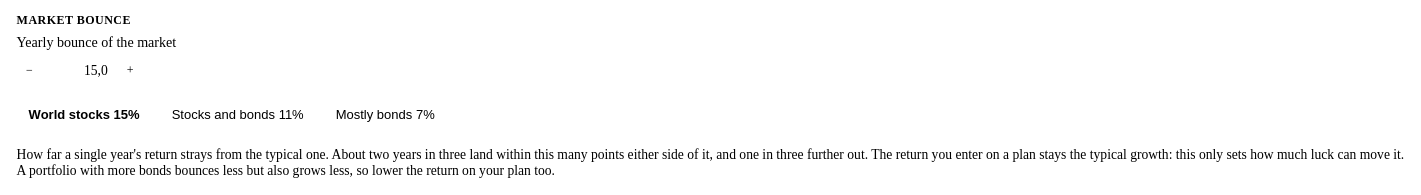
MarketBounceSetting › offers the three usual bounces, marks the one that is saved, and saves the one chosen
Click the button "Mostly bonds 7%". click: coordinates (385, 115)
box: [324,97,447,133]
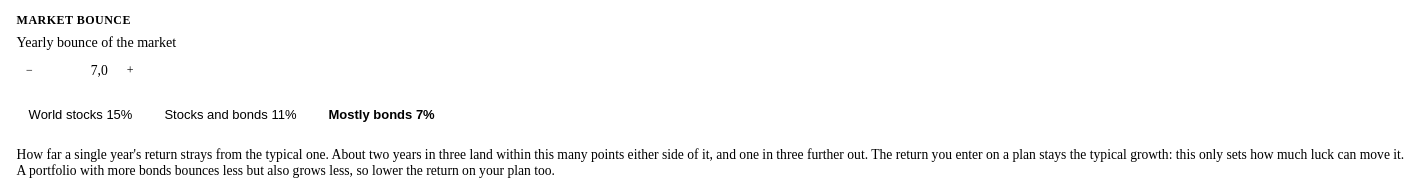
Now the field named "Market bounce" holds "7,0", box [46,59,113,83]
